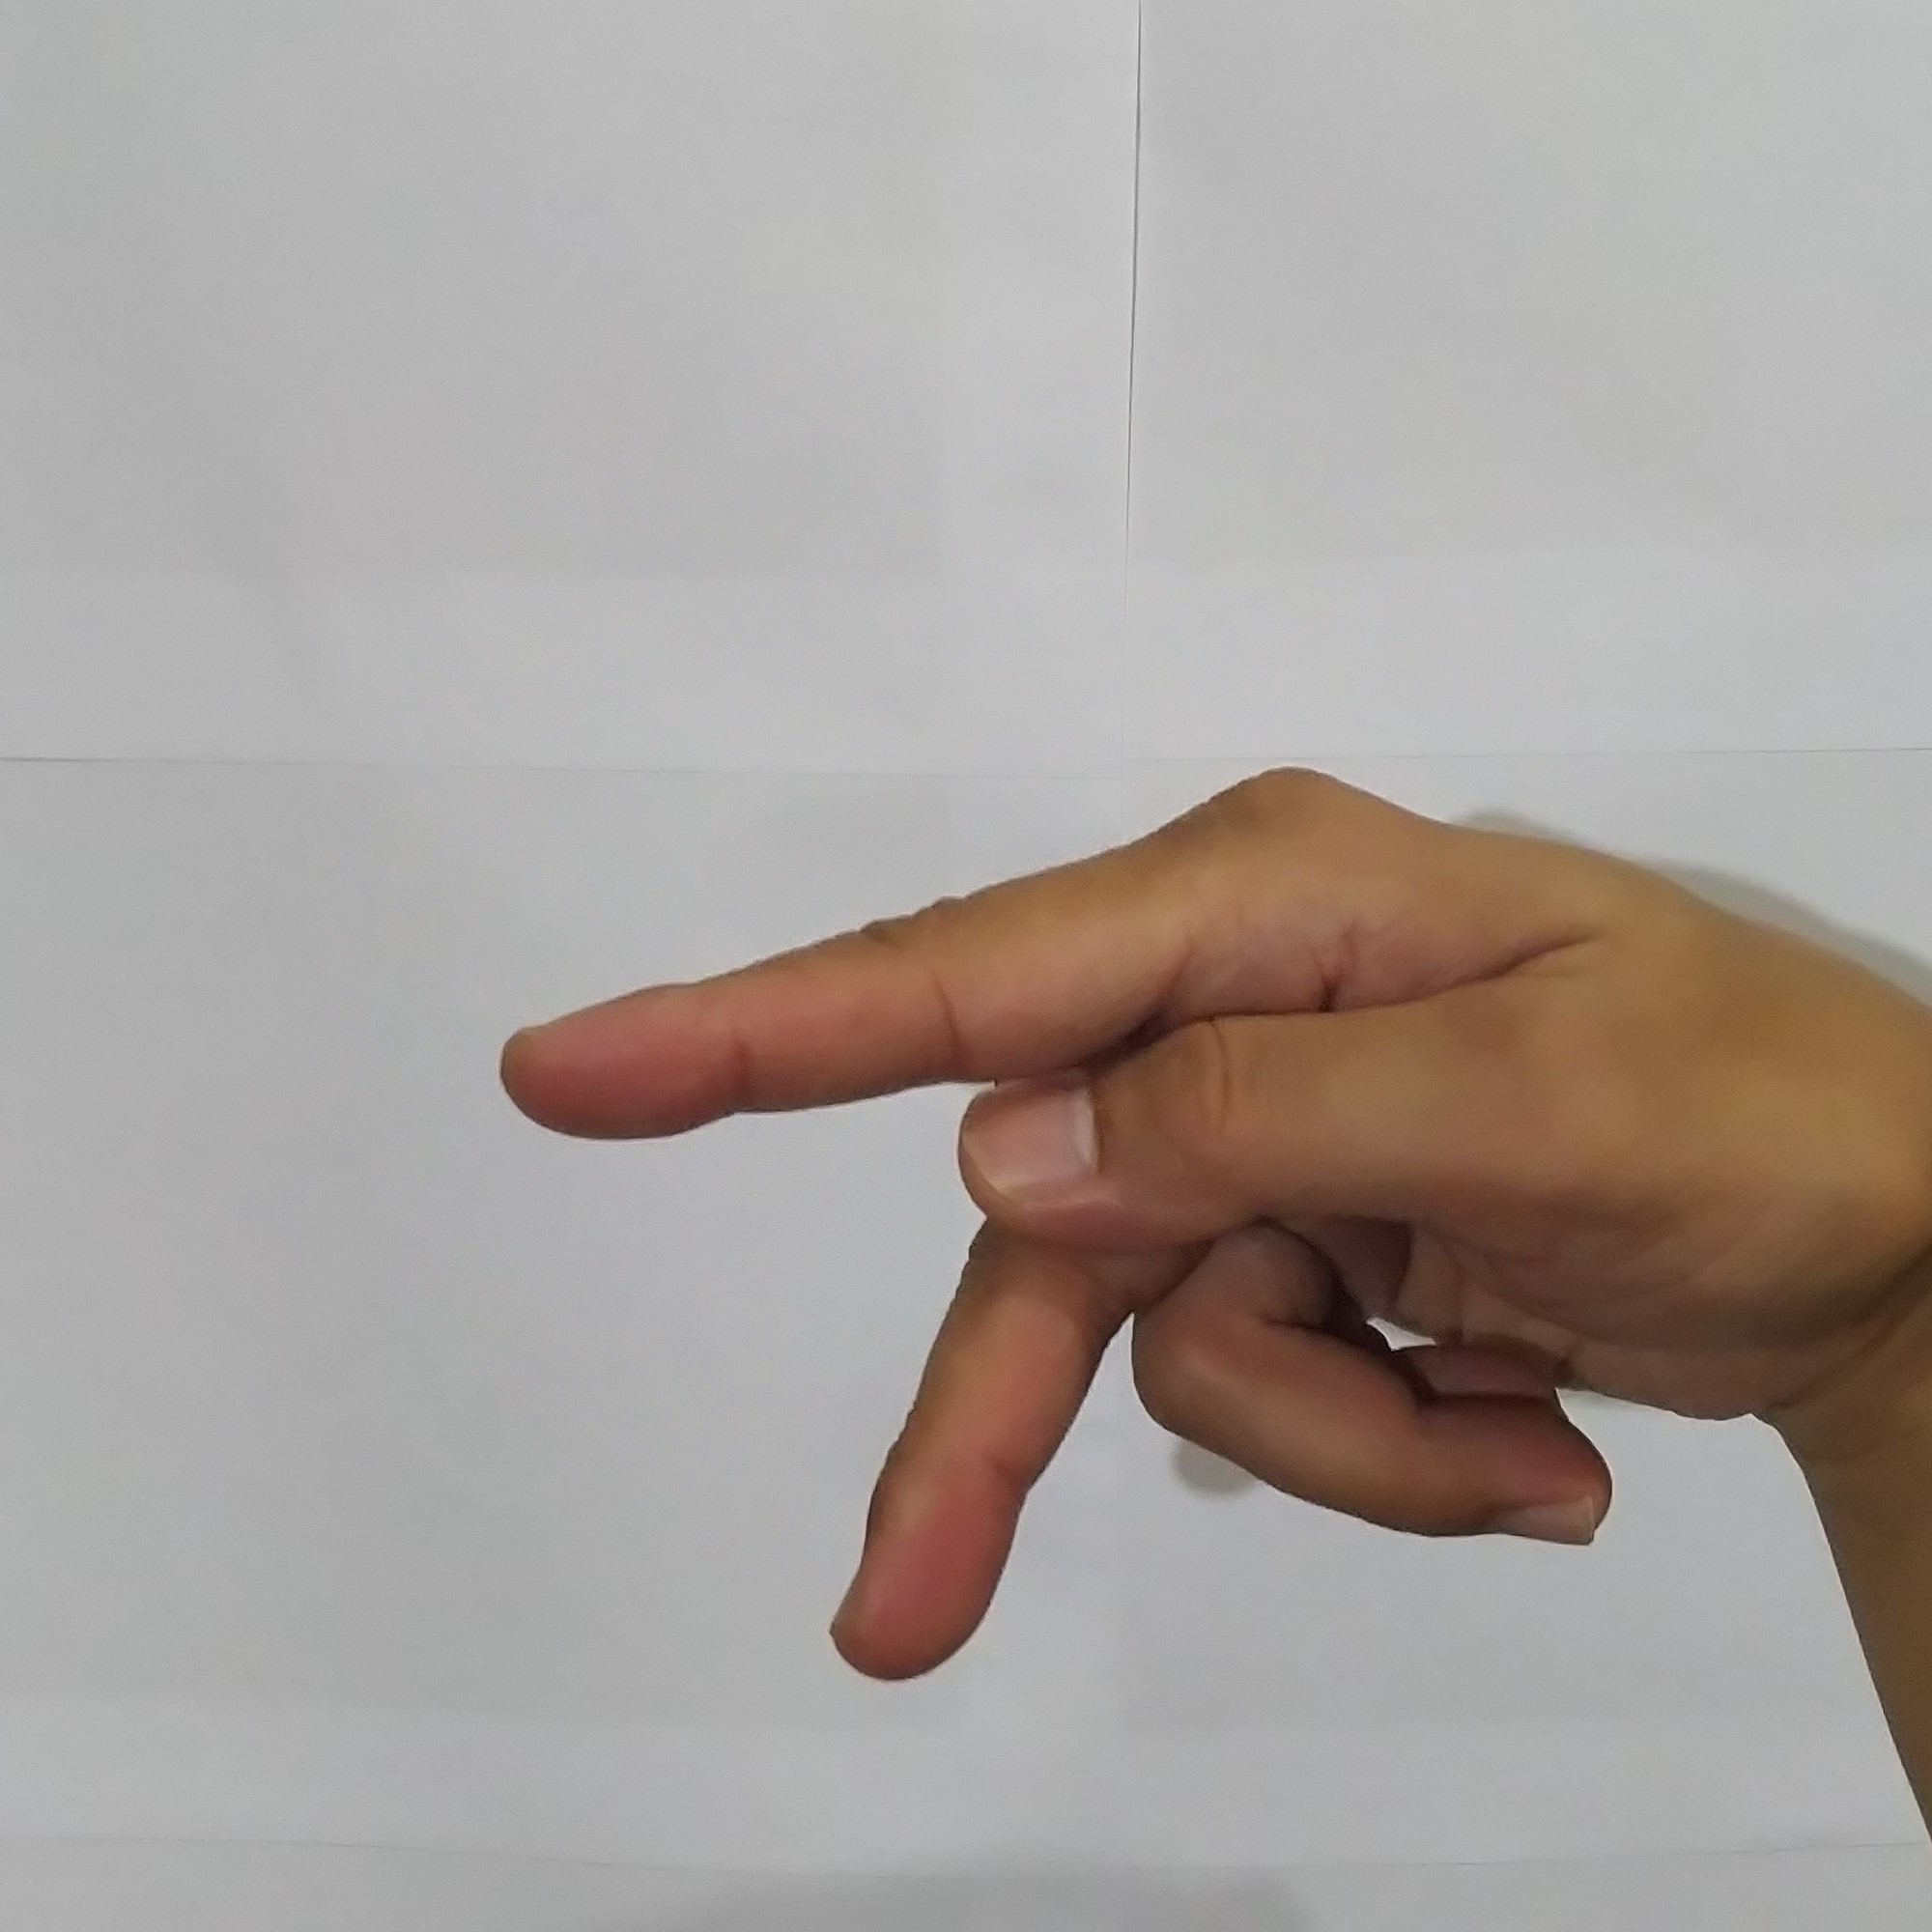P: (474, 741, 1932, 1706)
